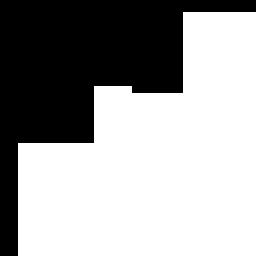rumex: (130, 93, 255, 256), (18, 143, 131, 256), (183, 12, 255, 92), (94, 86, 131, 144)
